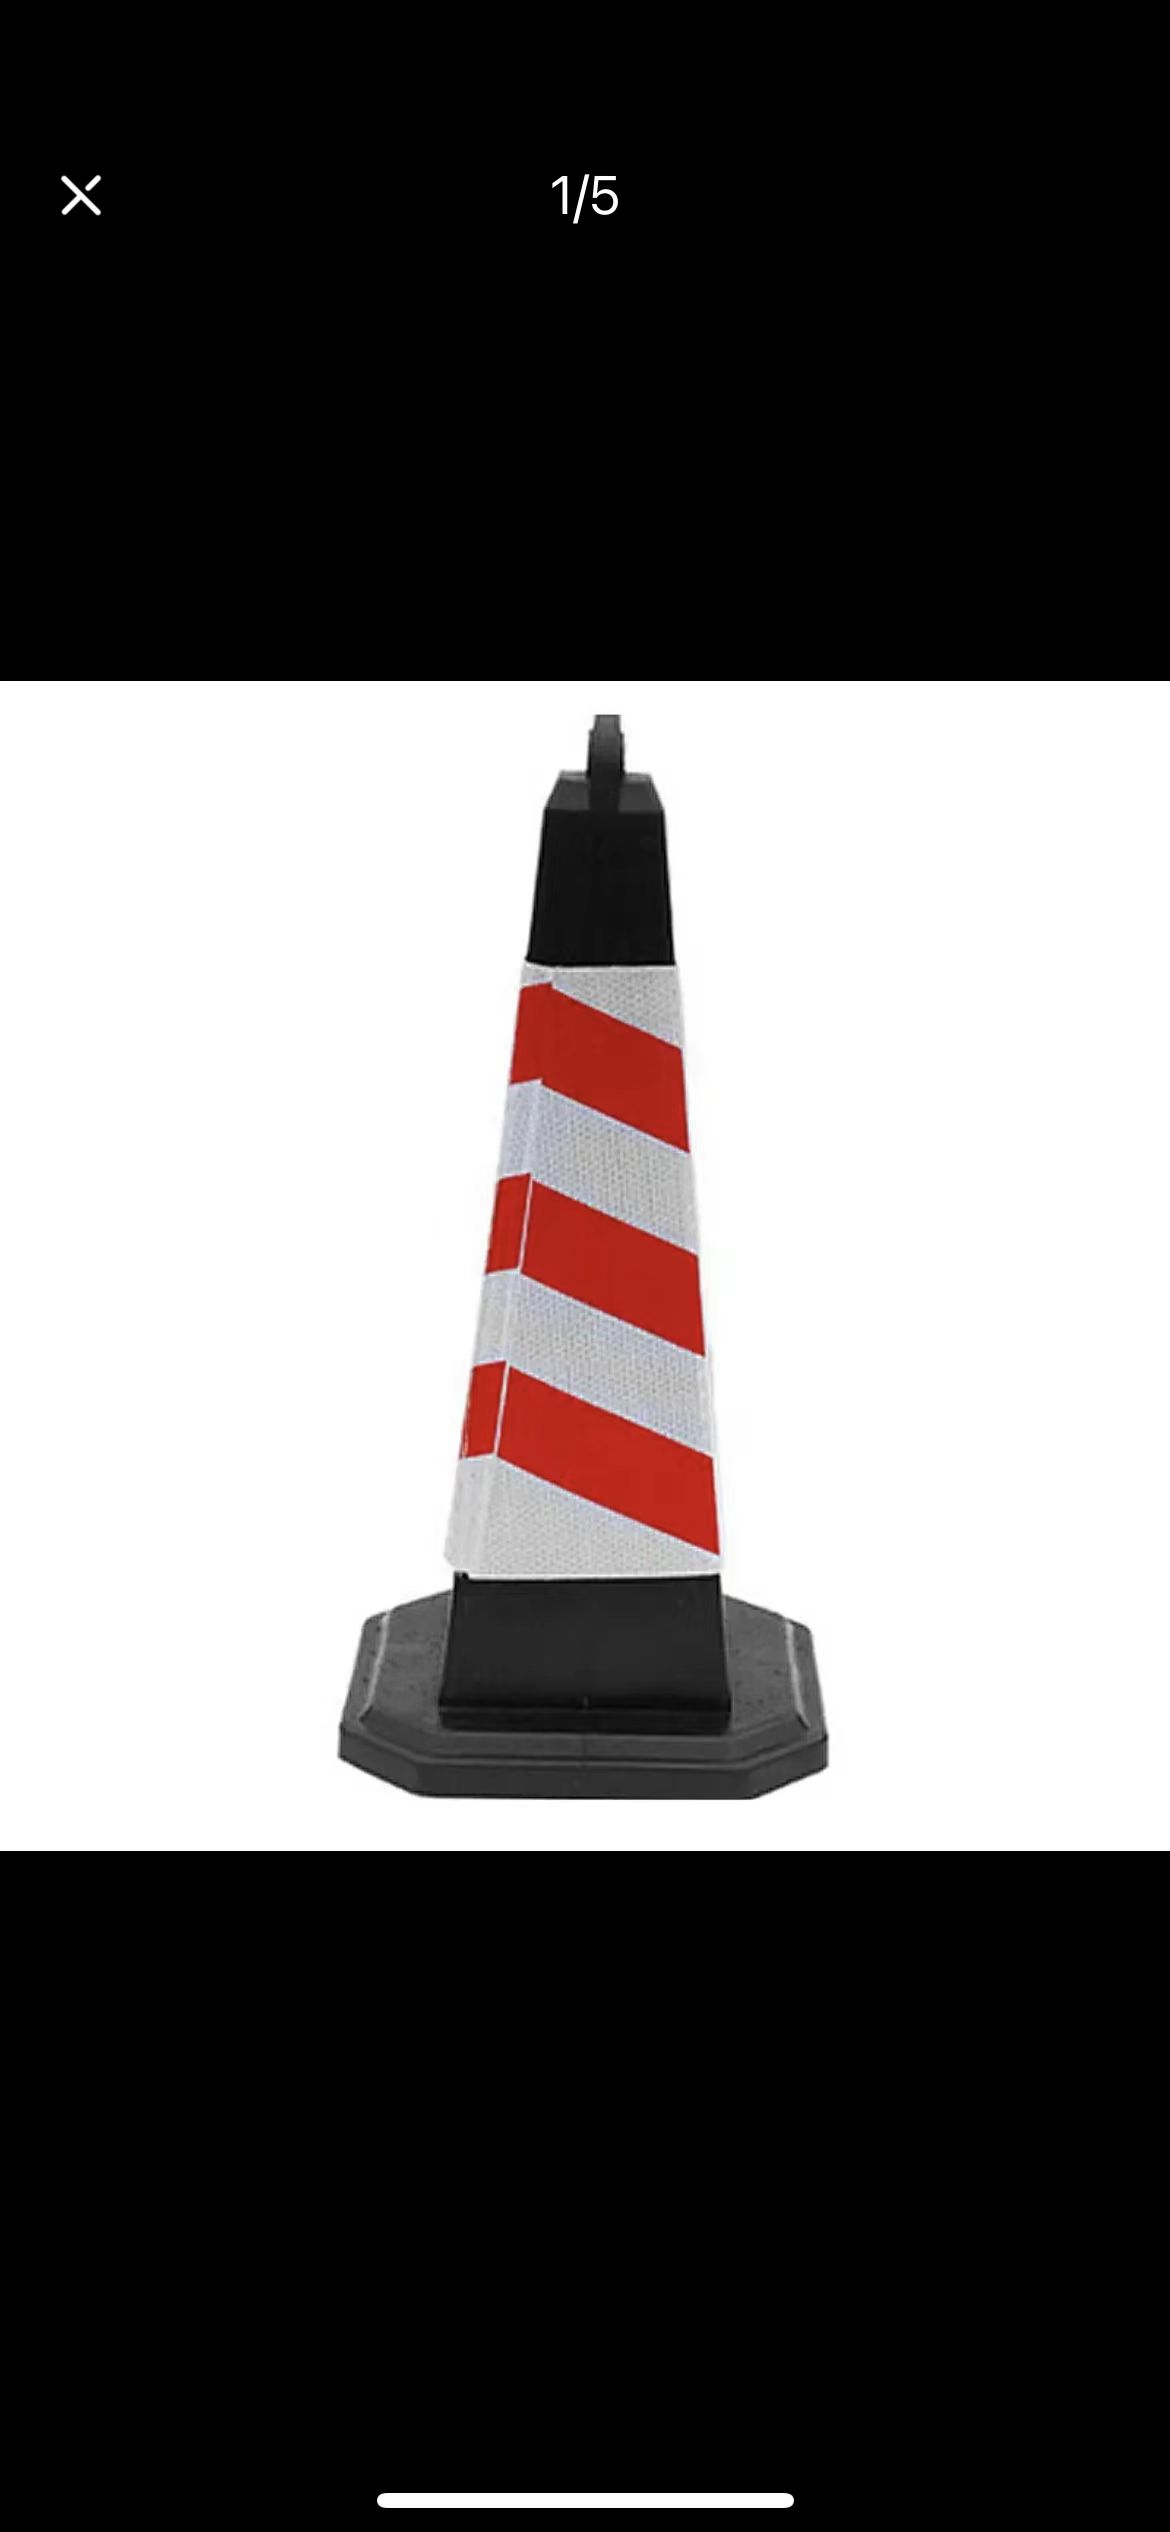traffic_cone: (350, 714, 855, 1836)
